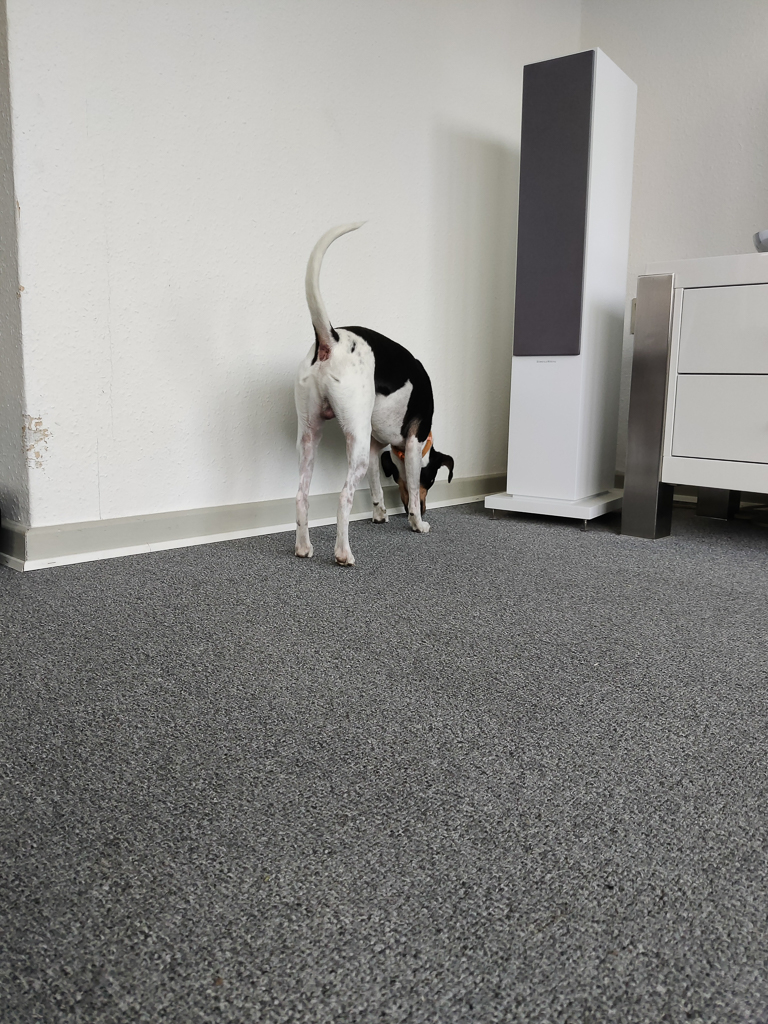Dog: (236, 191, 490, 588)
